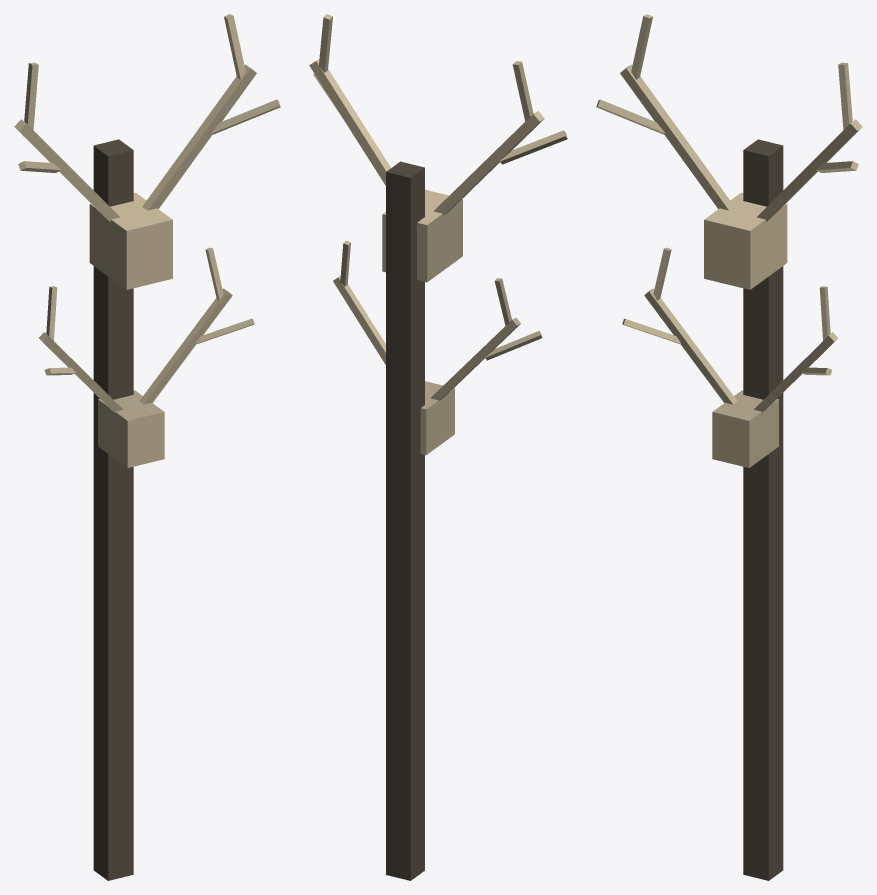
Rendered from walk_prop_antlers.glb.
The picture shows the model from 3 angles, left to right: view 1: azimuth 30°, elevation 25°; view 2: azimuth 150°, elevation 25°; view 3: azimuth 330°, elevation 25°; orthographic projection. The views are drawn at different scales.
Visible parts, largest first — view 1: walk_prop_antlers; view 2: walk_prop_antlers; view 3: walk_prop_antlers.
Boxes of the visible parts, <box> form: walk_prop_antlers: <box>14,14,280,880</box>; walk_prop_antlers: <box>309,14,567,880</box>; walk_prop_antlers: <box>596,14,862,880</box>.
Bounding box in the file's own units: 1.01 × 3.15 × 0.3152.
Materials: 1 (1 with a texture image).
